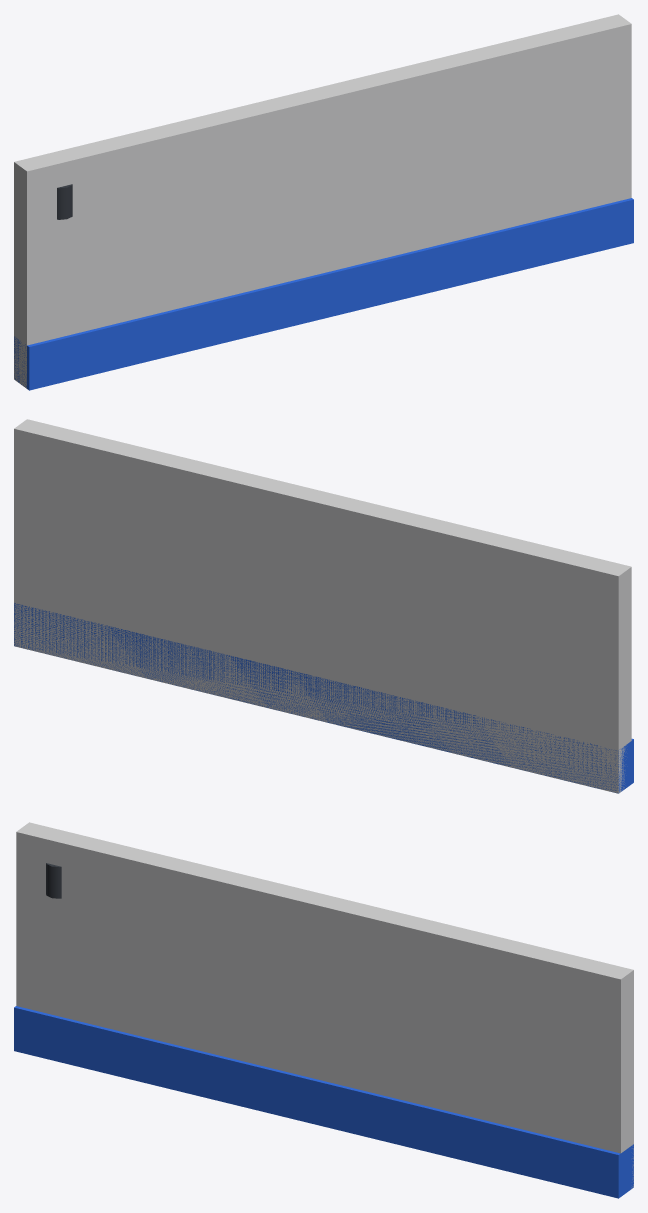
The model's file is placa-sala.glb.
The picture shows the model from 3 angles, top to bottom: view 1: azimuth 30°, elevation 25°; view 2: azimuth 150°, elevation 25°; view 3: azimuth 330°, elevation 25°; orthographic projection.
Parts seen in each view (by area): view 1: roomSign; view 2: roomSign; view 3: roomSign.
Part boxes in pixels (x1=…): roomSign: x1=14, y1=14, x2=633, y2=390; roomSign: x1=14, y1=419, x2=633, y2=793; roomSign: x1=14, y1=822, x2=633, y2=1198.
Size of the model in its own units: 0.32 by 0.11 by 0.014.
